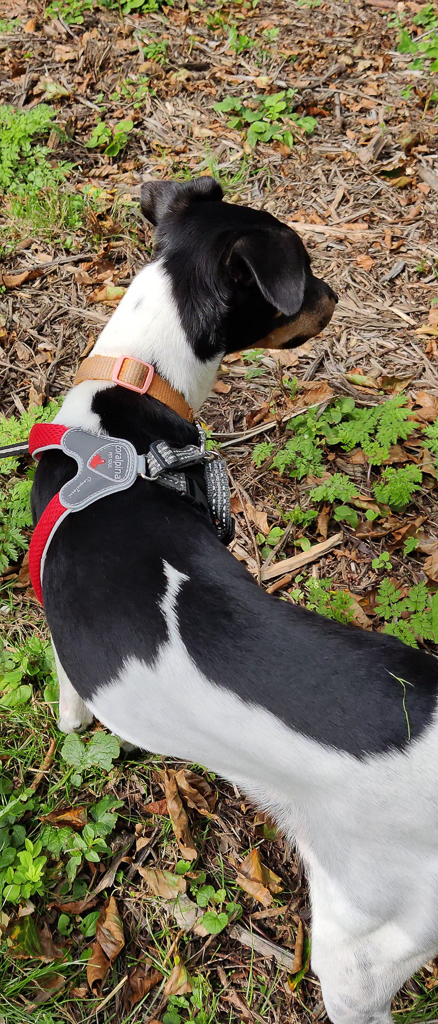Dog: (18, 165, 438, 1024)
